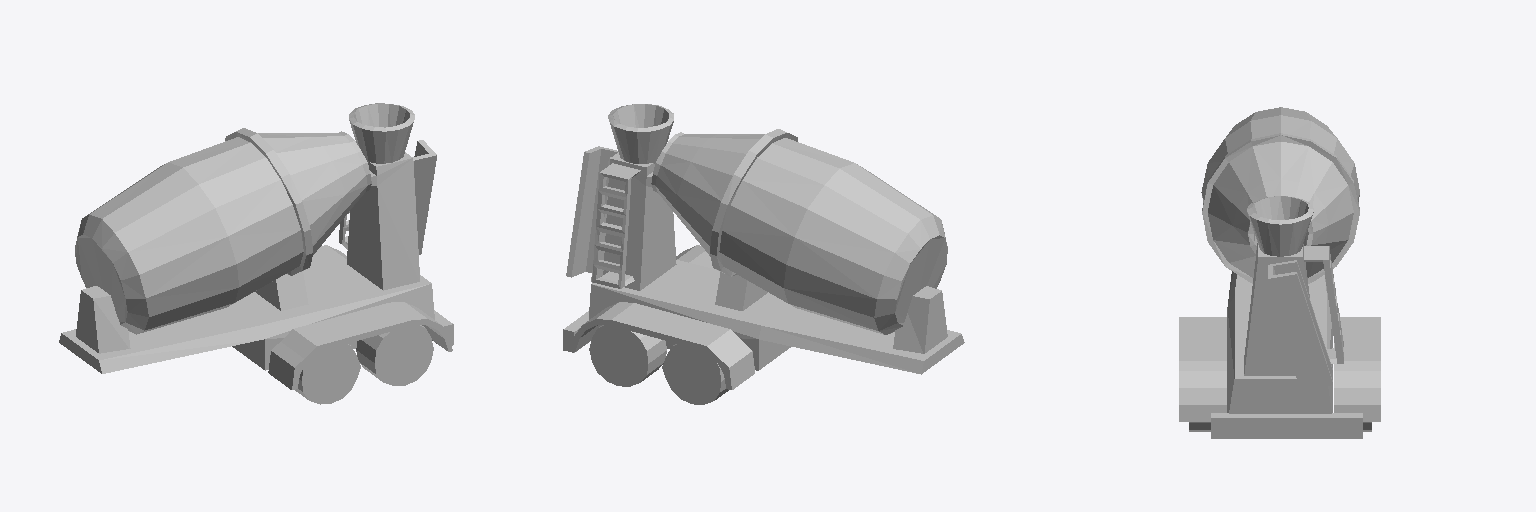
File: cement_trailer.obj
3 renders of one model, left to right at view 1: azimuth 30°, elevation 25°; view 2: azimuth 150°, elevation 25°; view 3: azimuth 270°, elevation 25°, orthographic.
Parts seen in each view (by area): view 1: Group; view 2: Group; view 3: Group.
Part boxes in pixels (left/top/right/bottom): Group: left=59, top=103, right=453, bottom=404; Group: left=563, top=104, right=964, bottom=404; Group: left=1179, top=107, right=1380, bottom=438.
Size of the model in its own units: 179 by 119 by 89.31.